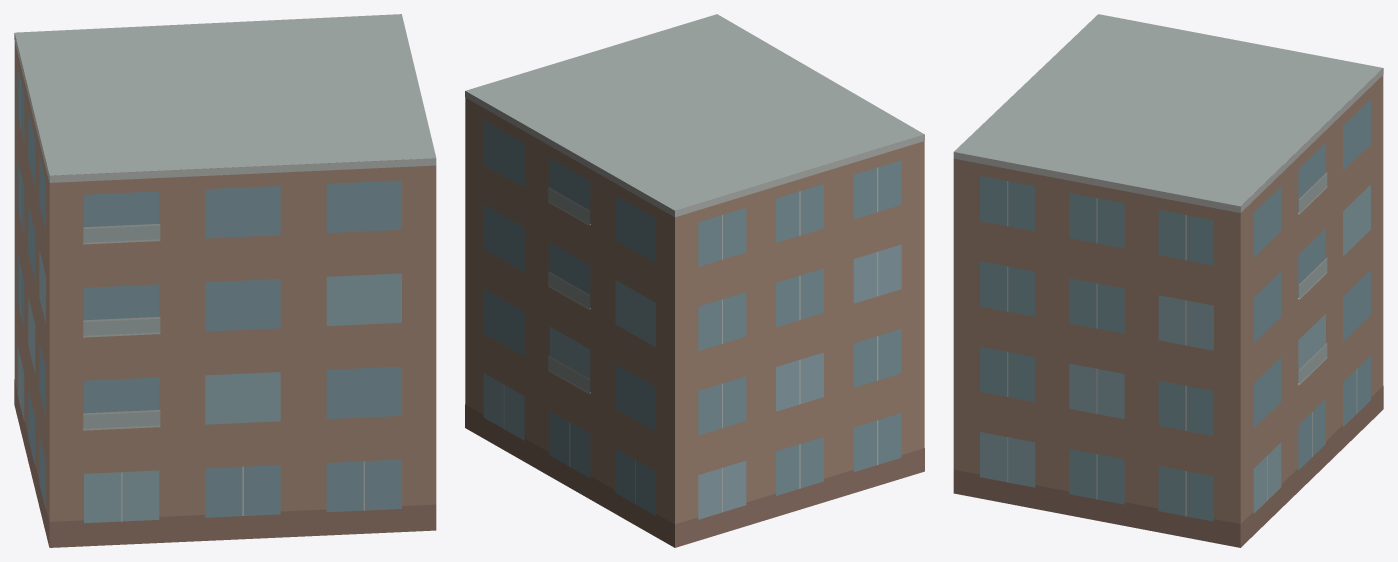
File: survey-upis-32538606.glb
3 views of the same model, side by side, from view 1: azimuth 30°, elevation 25°; view 2: azimuth 150°, elevation 25°; view 3: azimuth 270°, elevation 25° (orthographic). The views are drawn at different scales.
Visible parts, largest first — view 1: survey-upis-32538606.tmp; view 2: survey-upis-32538606.tmp; view 3: survey-upis-32538606.tmp.
Boxes of the visible parts, x1,y1,x2,y2 form: survey-upis-32538606.tmp: (14, 14, 436, 547); survey-upis-32538606.tmp: (465, 14, 924, 547); survey-upis-32538606.tmp: (953, 14, 1383, 547).
Bounding box in the file's own units: 15.07 × 12.46 × 14.22.
